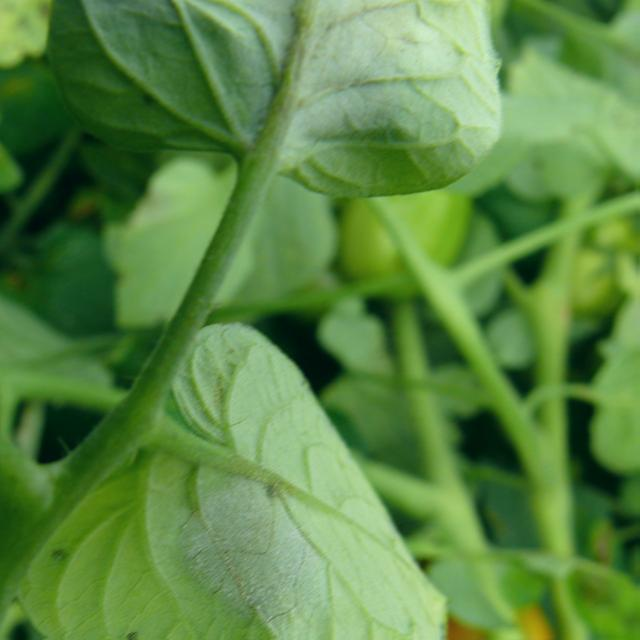Tomato leaf late blight: (14, 314, 448, 640), (1, 0, 532, 196)
